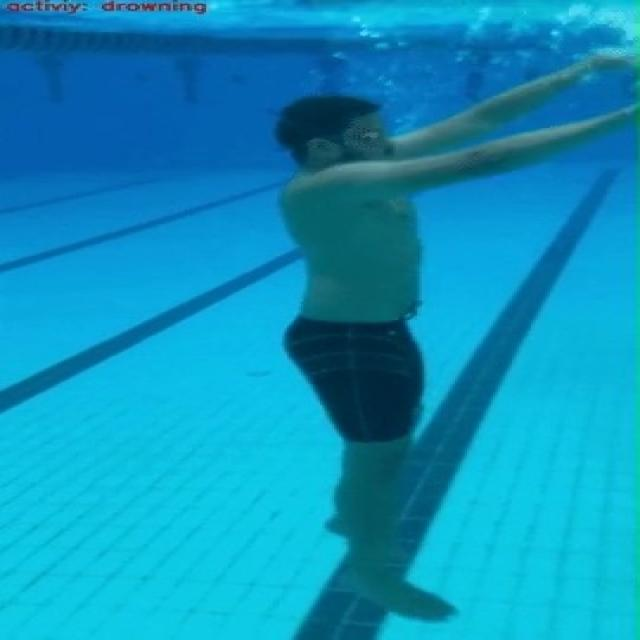Drowning: (257, 42, 640, 625)
